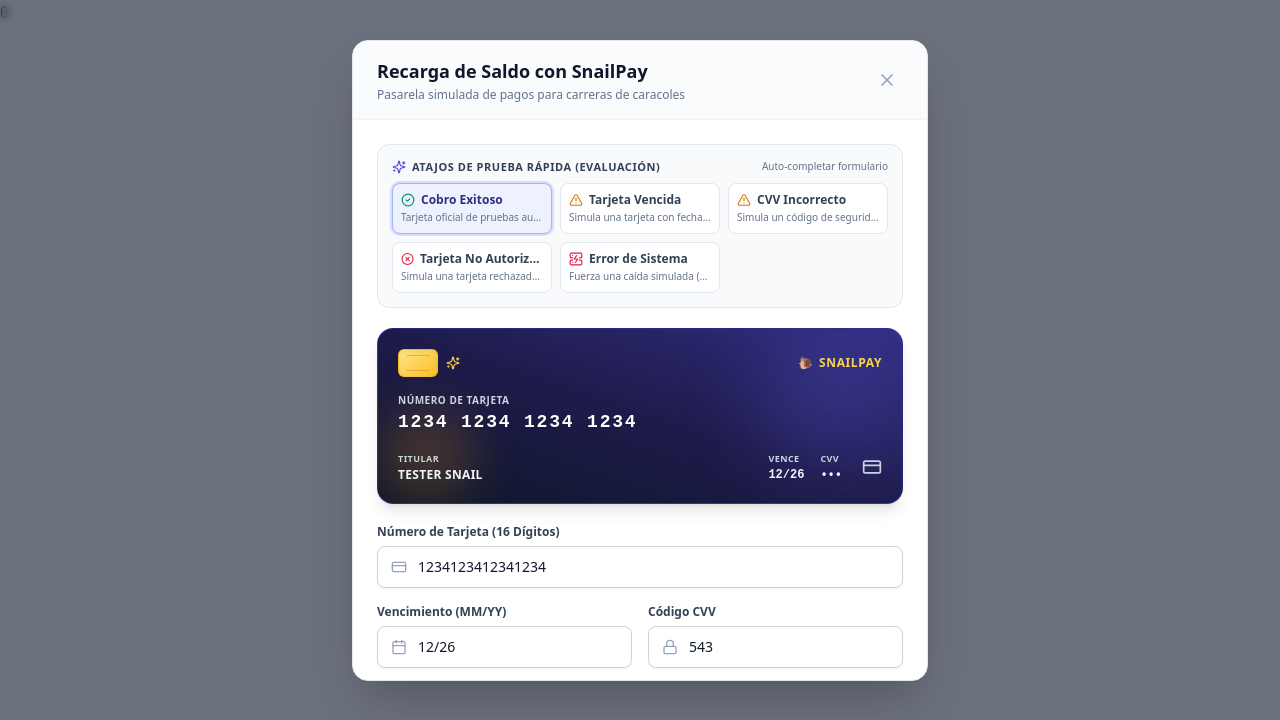
it: SnailPay Gateway Modal & Balance Updates › no debe modificar el saldo si la tarjeta es rechazada (Error 422)
The width and height of the screenshot is (1280, 720).
Seleccionamos el preset "Tarjeta No Autorizada"
Click the button "Tarjeta No Autorizada".
click(472, 268)  # box [392,242,552,293]
(page scrolled)
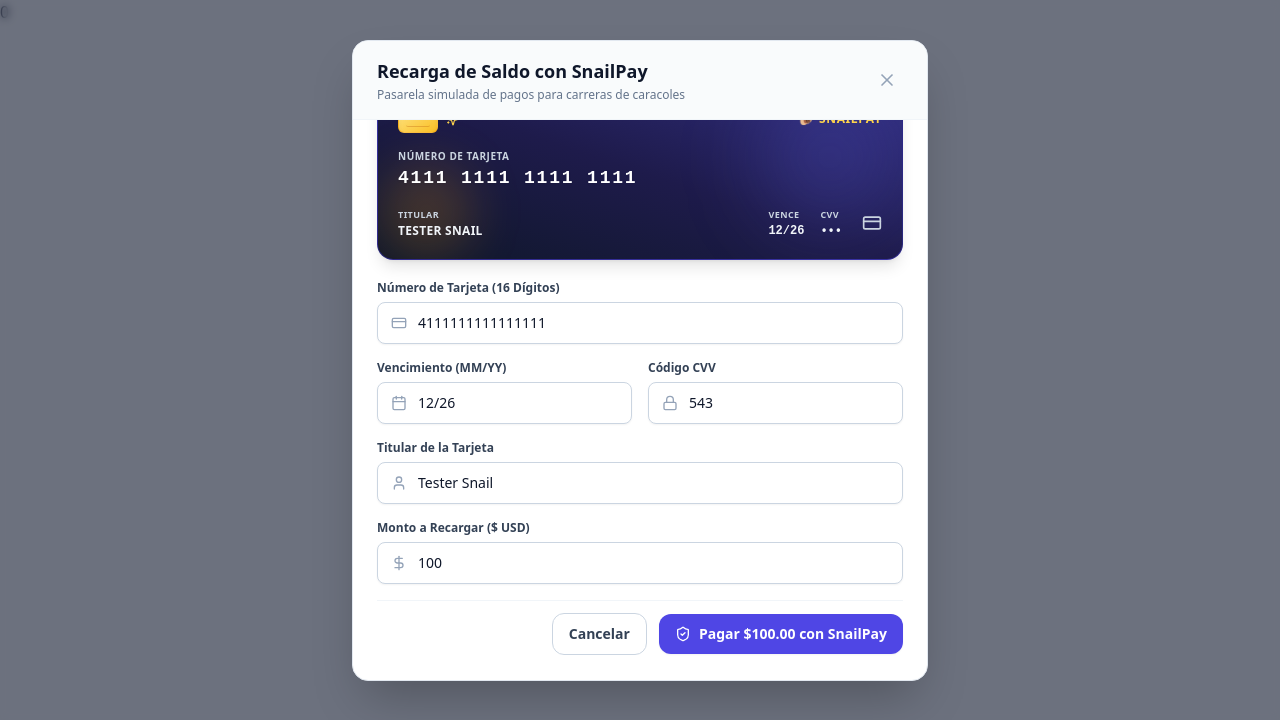
Clic en Pagar
Click the button "Pagar $100.00 con SnailPay".
click(781, 634)  # box [659,614,903,654]
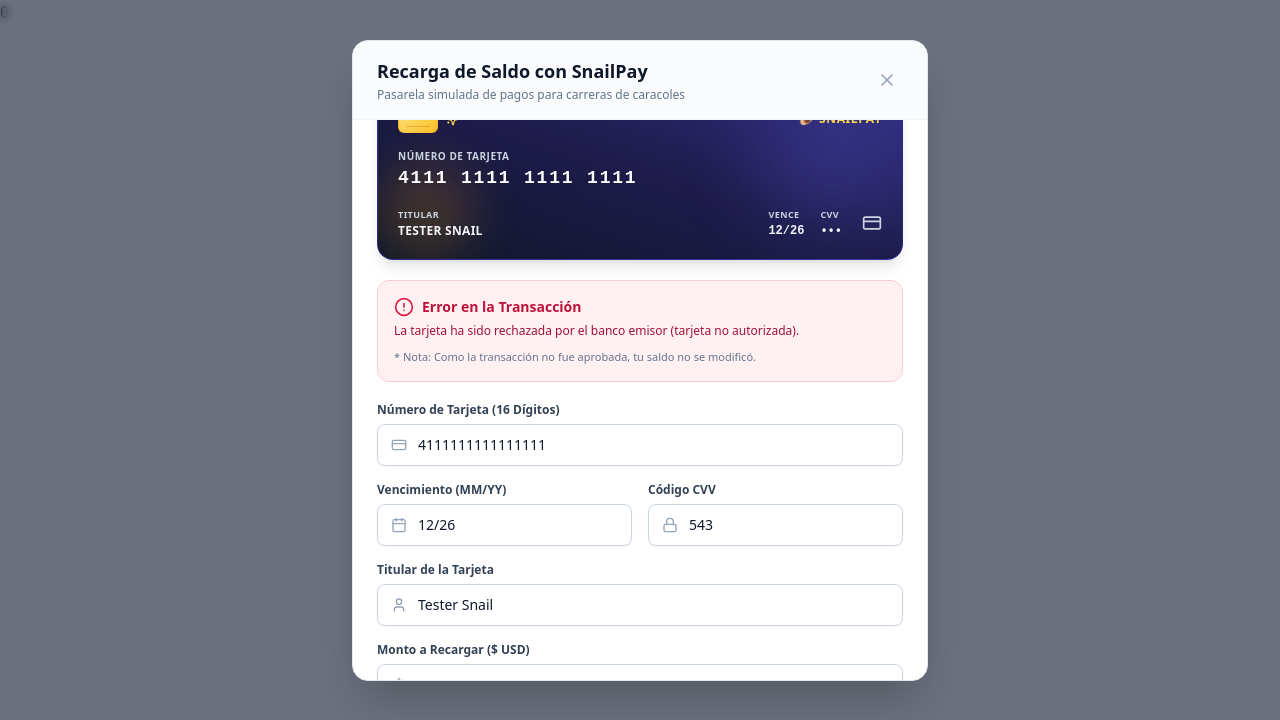
Check: the text with test id "live-balance" reads "0", box [0,1,9,23]
Check: the text "Error en la Transacción" is shown, box [422,297,582,317]
Check: the text "tarjeta ha sido rechazada por el banco emisor" is shown, box [394,322,799,339]
